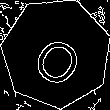O_NE: (24, 20, 88, 86)
